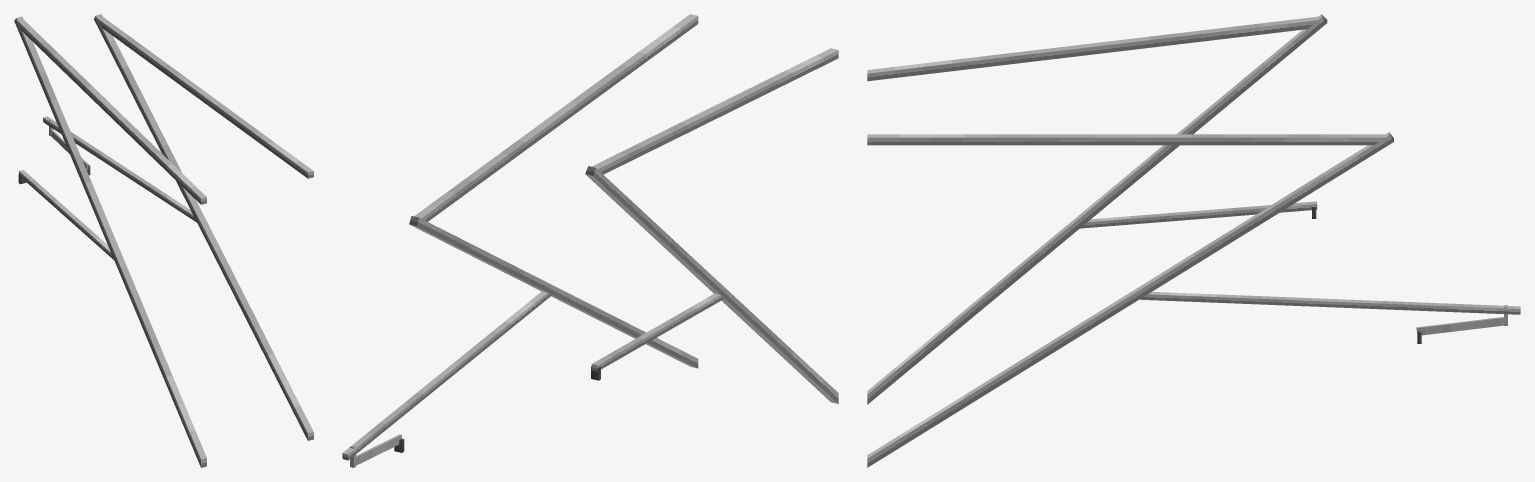
File: cantilever_outer_5px.obj
The picture shows the model from 3 angles, left to right: view 1: azimuth 30°, elevation 25°; view 2: azimuth 150°, elevation 25°; view 3: azimuth 270°, elevation 25°; orthographic projection. The views are drawn at different scales.
Visible parts, largest first — view 1: 9e4bc2f2-6d32-41af-aab4-f833de2e31ea, 5058dac7-65ca-4799-ba71-e2af0af7fa9d, 25f404c1-34a3-443d-a914-9be4a184026c, d3aeee1c-7e1c-4ca8-99a3-14ff51976557, 1ce92818-7e88-40c3-b695-249dc8d23f7e, ff2d61eb-8f6c-4f75-a8f5-4b2110de6114; view 2: 25f404c1-34a3-443d-a914-9be4a184026c, 9e4bc2f2-6d32-41af-aab4-f833de2e31ea, d3aeee1c-7e1c-4ca8-99a3-14ff51976557, 5058dac7-65ca-4799-ba71-e2af0af7fa9d, 1ce92818-7e88-40c3-b695-249dc8d23f7e, ff2d61eb-8f6c-4f75-a8f5-4b2110de6114; view 3: 5058dac7-65ca-4799-ba71-e2af0af7fa9d, 9e4bc2f2-6d32-41af-aab4-f833de2e31ea, 25f404c1-34a3-443d-a914-9be4a184026c, d3aeee1c-7e1c-4ca8-99a3-14ff51976557, 1ce92818-7e88-40c3-b695-249dc8d23f7e, ff2d61eb-8f6c-4f75-a8f5-4b2110de6114, 6a367d6e-ee62-41dd-9999-9b51552d8a7b.
Boxes of the visible parts, x1,y1,x2,y2 form: 9e4bc2f2-6d32-41af-aab4-f833de2e31ea: [14, 16, 206, 467]; 5058dac7-65ca-4799-ba71-e2af0af7fa9d: [94, 14, 313, 440]; 25f404c1-34a3-443d-a914-9be4a184026c: [97, 17, 313, 178]; d3aeee1c-7e1c-4ca8-99a3-14ff51976557: [18, 19, 206, 204]; 1ce92818-7e88-40c3-b695-249dc8d23f7e: [43, 116, 196, 222]; ff2d61eb-8f6c-4f75-a8f5-4b2110de6114: [19, 170, 113, 259]; 25f404c1-34a3-443d-a914-9be4a184026c: [414, 14, 698, 221]; 9e4bc2f2-6d32-41af-aab4-f833de2e31ea: [585, 166, 838, 403]; d3aeee1c-7e1c-4ca8-99a3-14ff51976557: [592, 48, 838, 174]; 5058dac7-65ca-4799-ba71-e2af0af7fa9d: [409, 216, 698, 368]; 1ce92818-7e88-40c3-b695-249dc8d23f7e: [342, 291, 551, 460]; ff2d61eb-8f6c-4f75-a8f5-4b2110de6114: [591, 293, 723, 371]; 5058dac7-65ca-4799-ba71-e2af0af7fa9d: [867, 132, 1393, 467]; 9e4bc2f2-6d32-41af-aab4-f833de2e31ea: [867, 14, 1327, 404]; 25f404c1-34a3-443d-a914-9be4a184026c: [867, 134, 1385, 145]; d3aeee1c-7e1c-4ca8-99a3-14ff51976557: [867, 16, 1318, 81]; 1ce92818-7e88-40c3-b695-249dc8d23f7e: [1140, 292, 1520, 314]; ff2d61eb-8f6c-4f75-a8f5-4b2110de6114: [1080, 201, 1317, 228]; 6a367d6e-ee62-41dd-9999-9b51552d8a7b: [1416, 317, 1503, 335].
Size of the model in its own units: 1.19 by 3.17 by 4.84.
